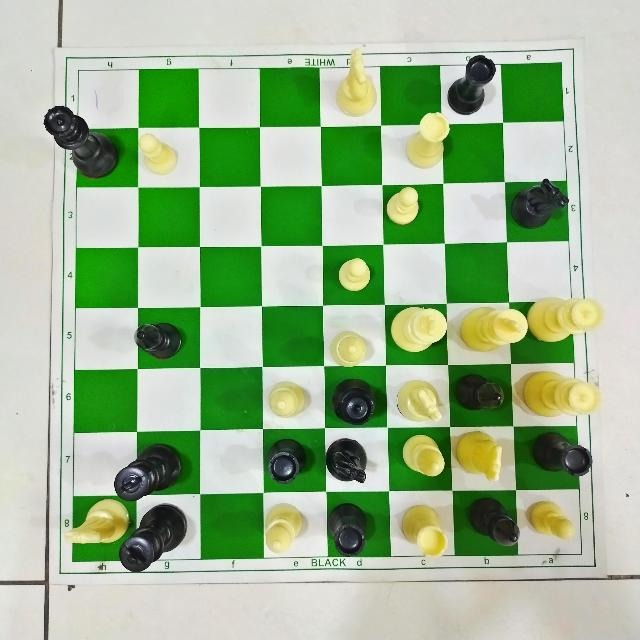black-bishop: (466, 495, 524, 552), (453, 370, 507, 414), (132, 318, 184, 360)
black-king: (118, 507, 186, 575), (112, 440, 183, 501)
black-knight: (509, 171, 572, 233), (323, 434, 371, 489)
black-queen: (42, 104, 122, 179), (329, 373, 378, 428)
black-rook: (528, 425, 596, 483), (444, 53, 496, 117), (324, 497, 371, 561), (266, 435, 308, 487)
white-bishop: (259, 500, 305, 556), (398, 431, 446, 479), (328, 321, 370, 367), (267, 377, 307, 418)
white-king: (458, 300, 524, 359), (388, 302, 449, 360)
white-knight: (63, 496, 123, 558), (328, 47, 377, 117), (451, 426, 506, 484), (393, 376, 444, 423)
white-pawn: (524, 498, 578, 539), (137, 131, 181, 173), (384, 183, 420, 229), (334, 253, 373, 294)
white-queen: (527, 286, 607, 348), (521, 365, 601, 421)
white-rook: (400, 110, 452, 172), (398, 503, 453, 559)
